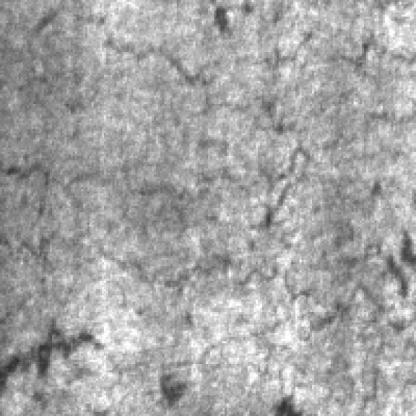crazing: (10, 156, 416, 347), (25, 6, 412, 140)
